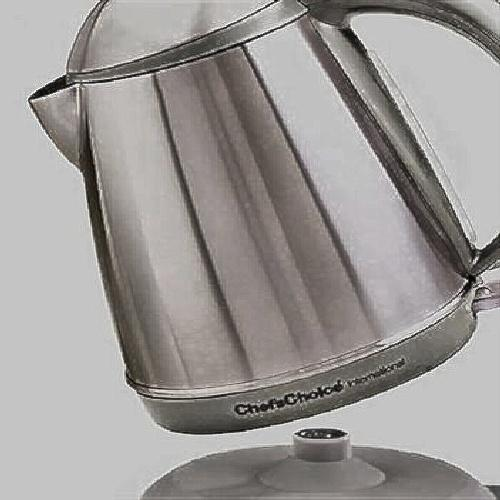kettle: (58, 6, 477, 410)
